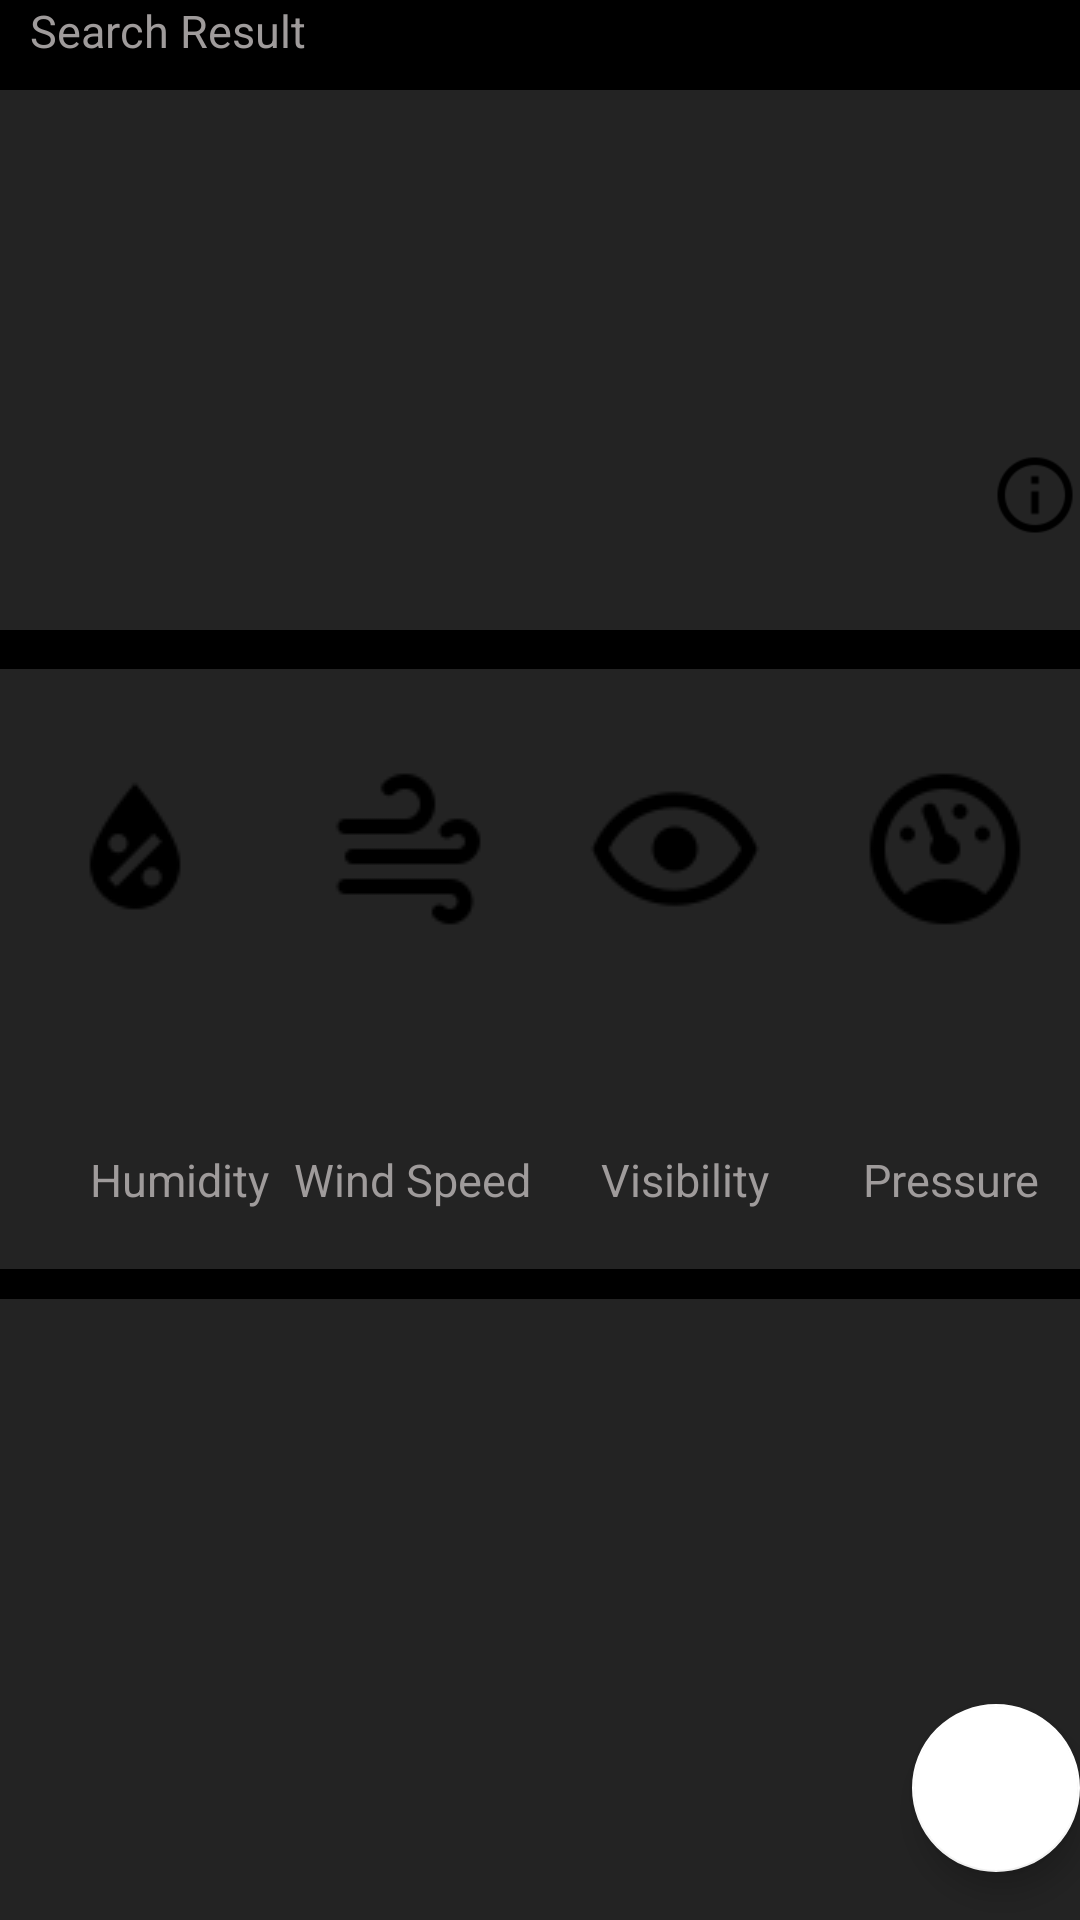

Icon bounding boxes for this 1080 × 1920 phone screenshot, format (x1, y1, x2, y2):
eye: (594, 793, 756, 905)
gauge: (871, 775, 1019, 923)
information: (998, 458, 1072, 532)
water percent: (91, 786, 179, 908)
weather windy: (339, 775, 479, 923)
